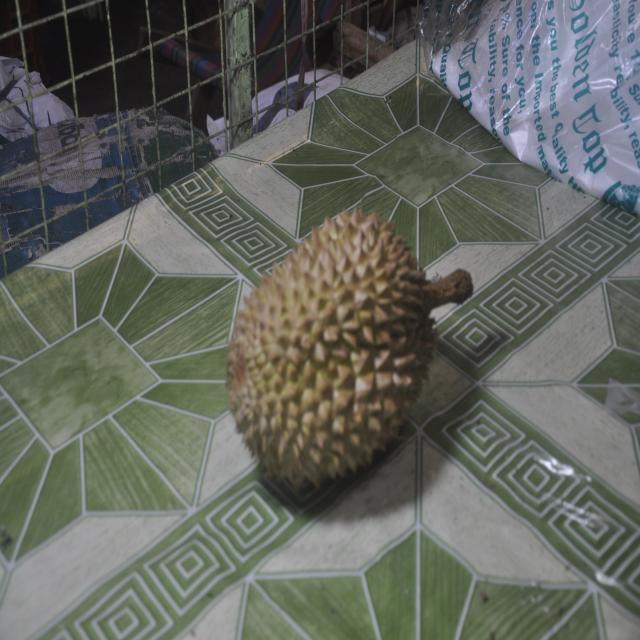mature: (227, 209, 472, 488)
